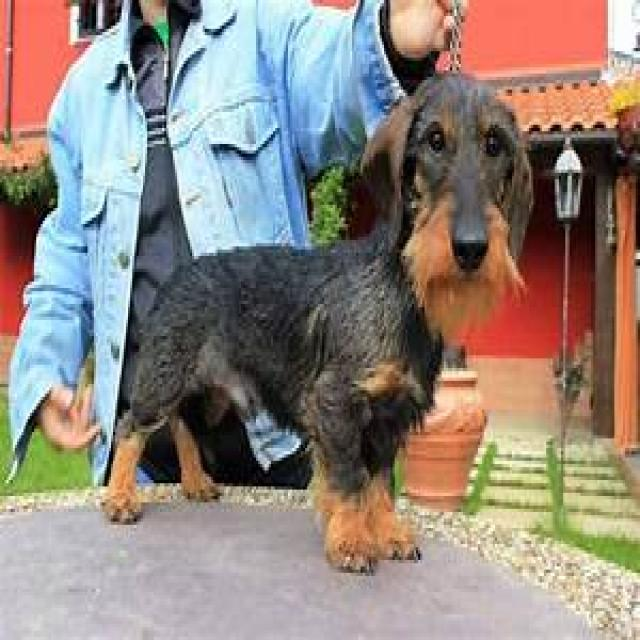dog: (98, 67, 533, 573)
